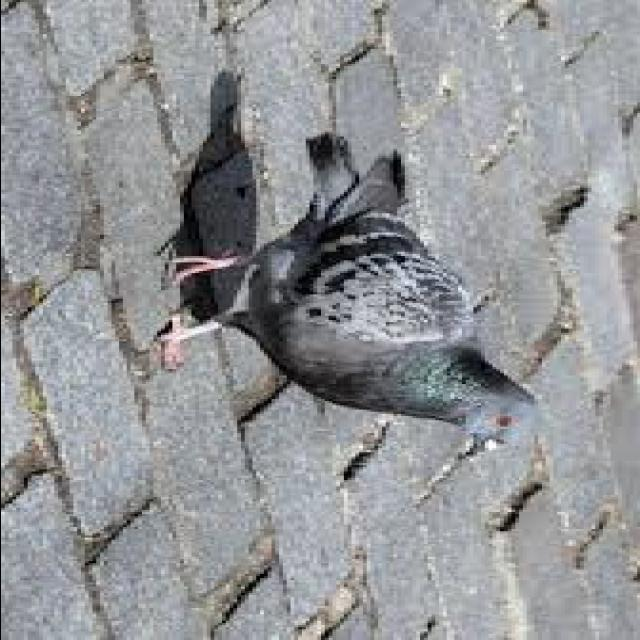pigeon: (119, 136, 540, 470)
